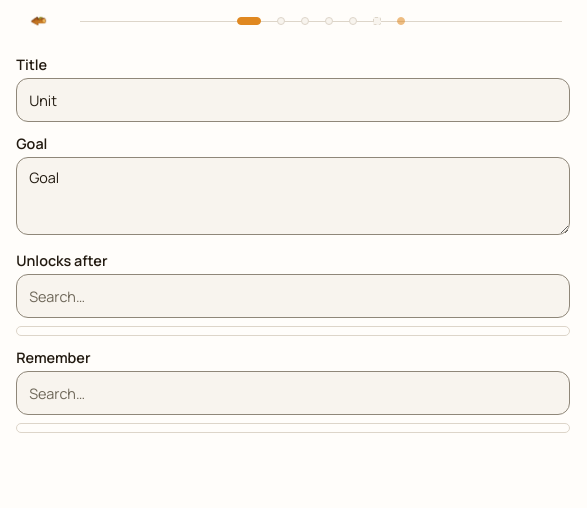
Test: the coverage grid › shows one row per word, and the rungs of the ladder as columns
What coordinates should you click on to do the following:
click the button named "Page 6 of 6"
I would click on:
 (377, 21)
Its box is [373, 17, 381, 25].
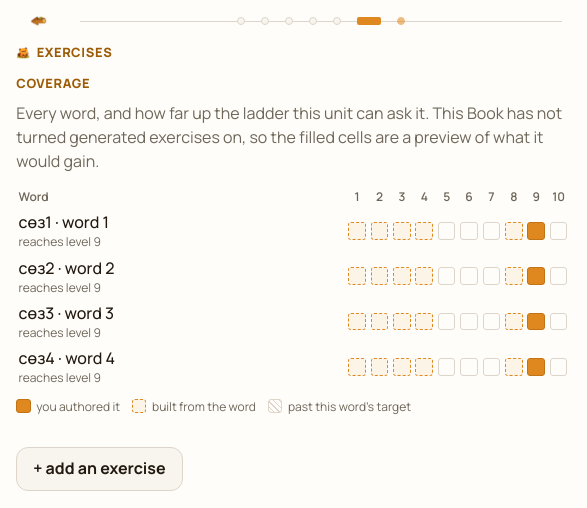
Now the text "Coverage" is shown, box [16, 74, 90, 93]
Now the column heading "10" is shown, box [547, 185, 570, 208]
